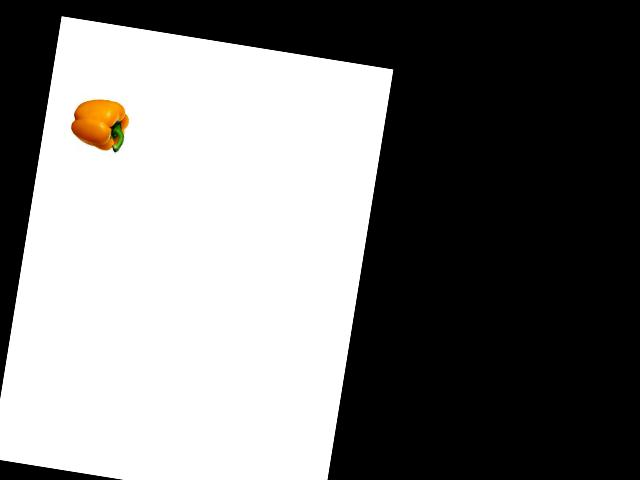bell_pepper: (65, 90, 137, 159)
